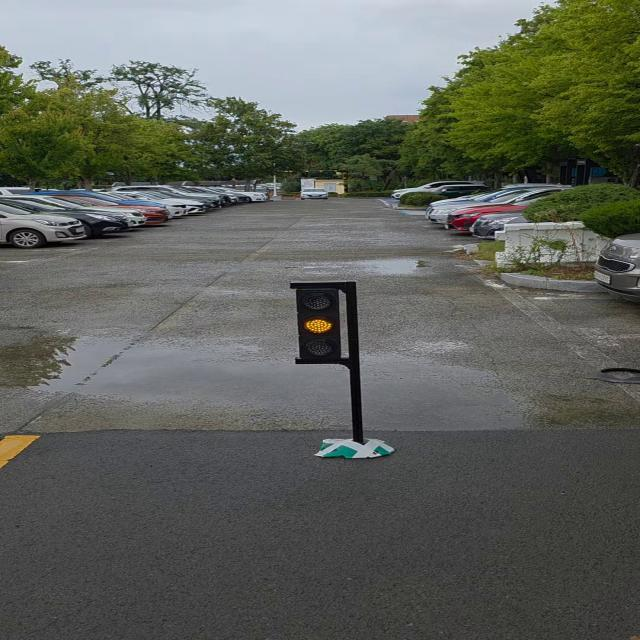yellow: (292, 284, 355, 364)
